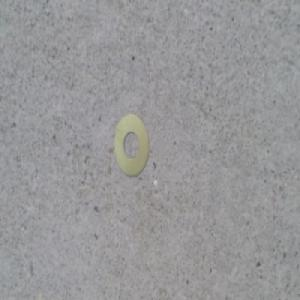Washer: (113, 112, 150, 178)
